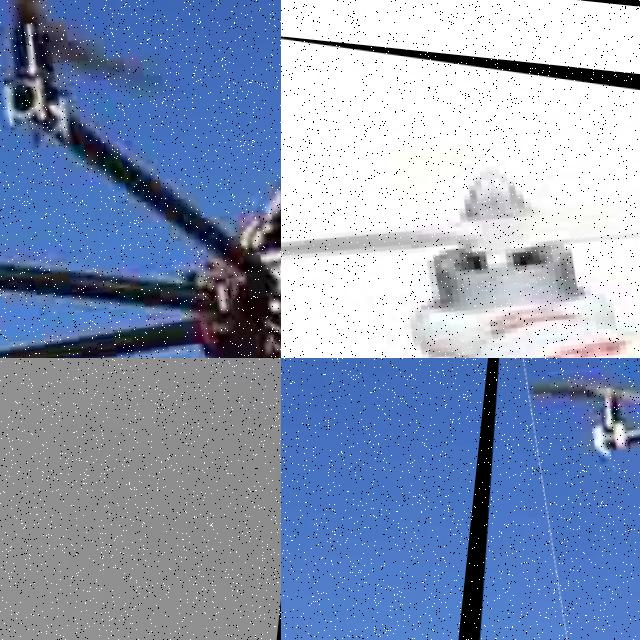0: (0, 0, 281, 358), (454, 358, 640, 640)
drone: (281, 29, 640, 358)
